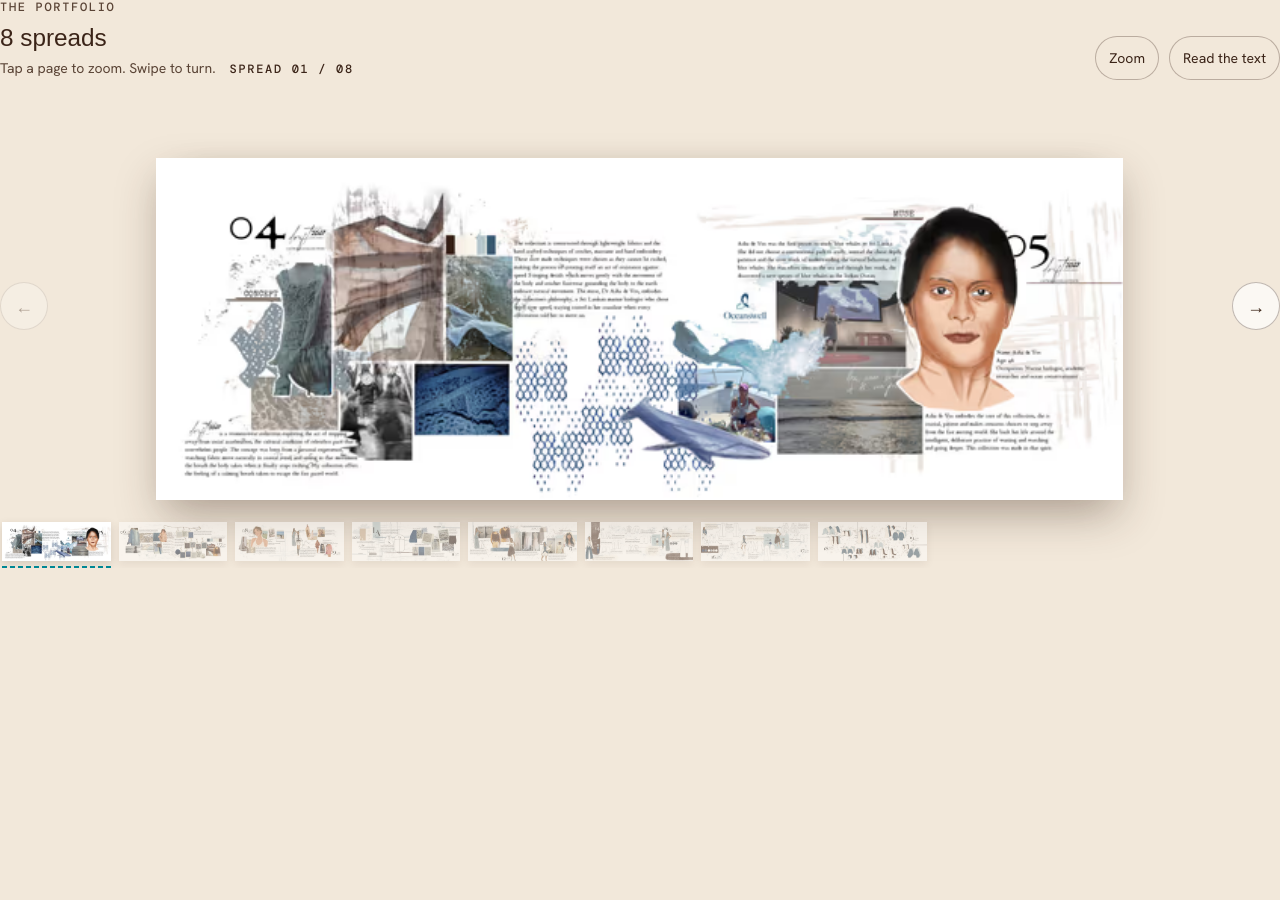
Scenario: Read the text: enabled only on a page with text, opens a drawer with it
Click the button "Read the text" at (1224, 58), box [1169, 36, 1279, 80]
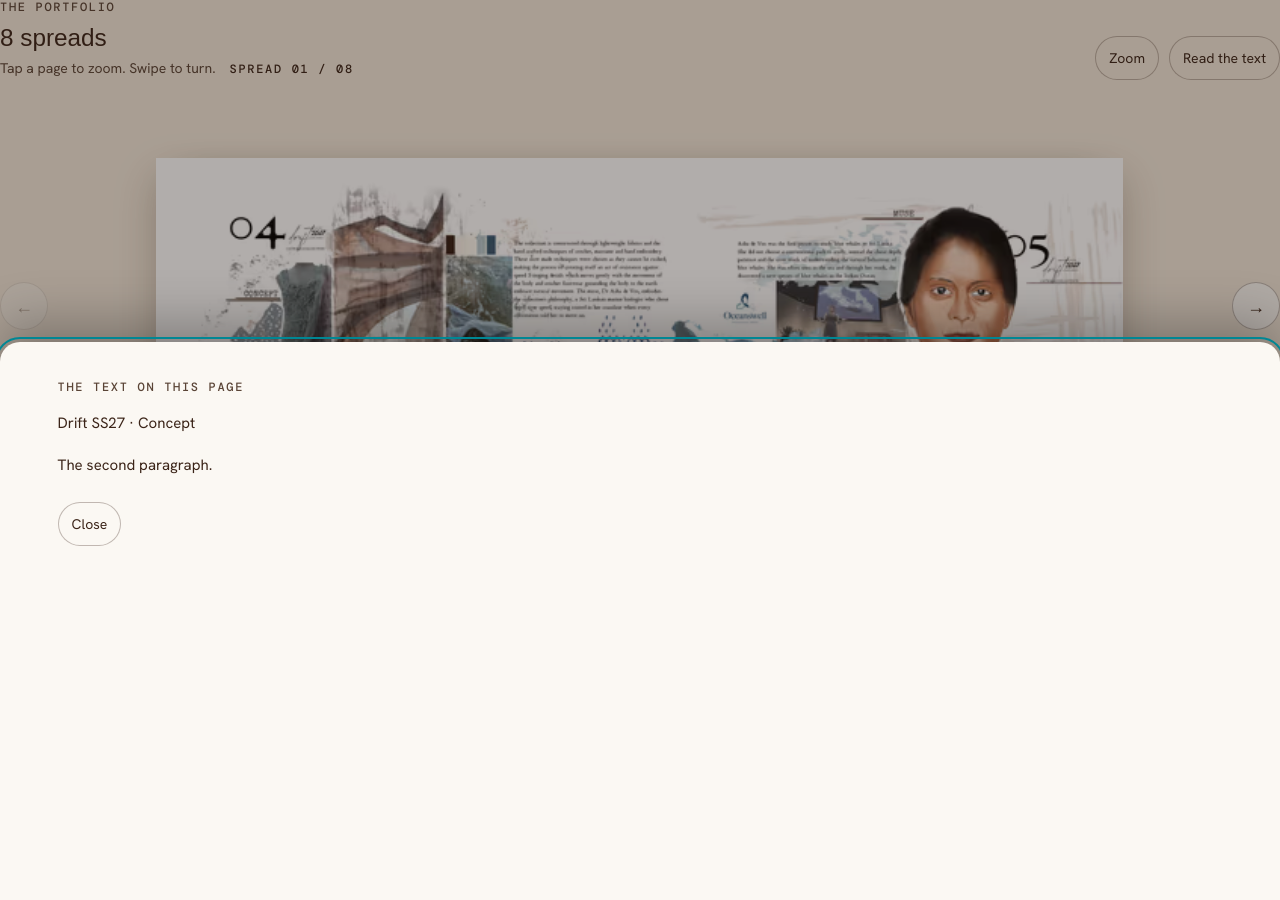
Now the text "The second paragraph." is shown, box [58, 455, 212, 475]
Click the button "Close" at (90, 524), box [58, 502, 121, 546]
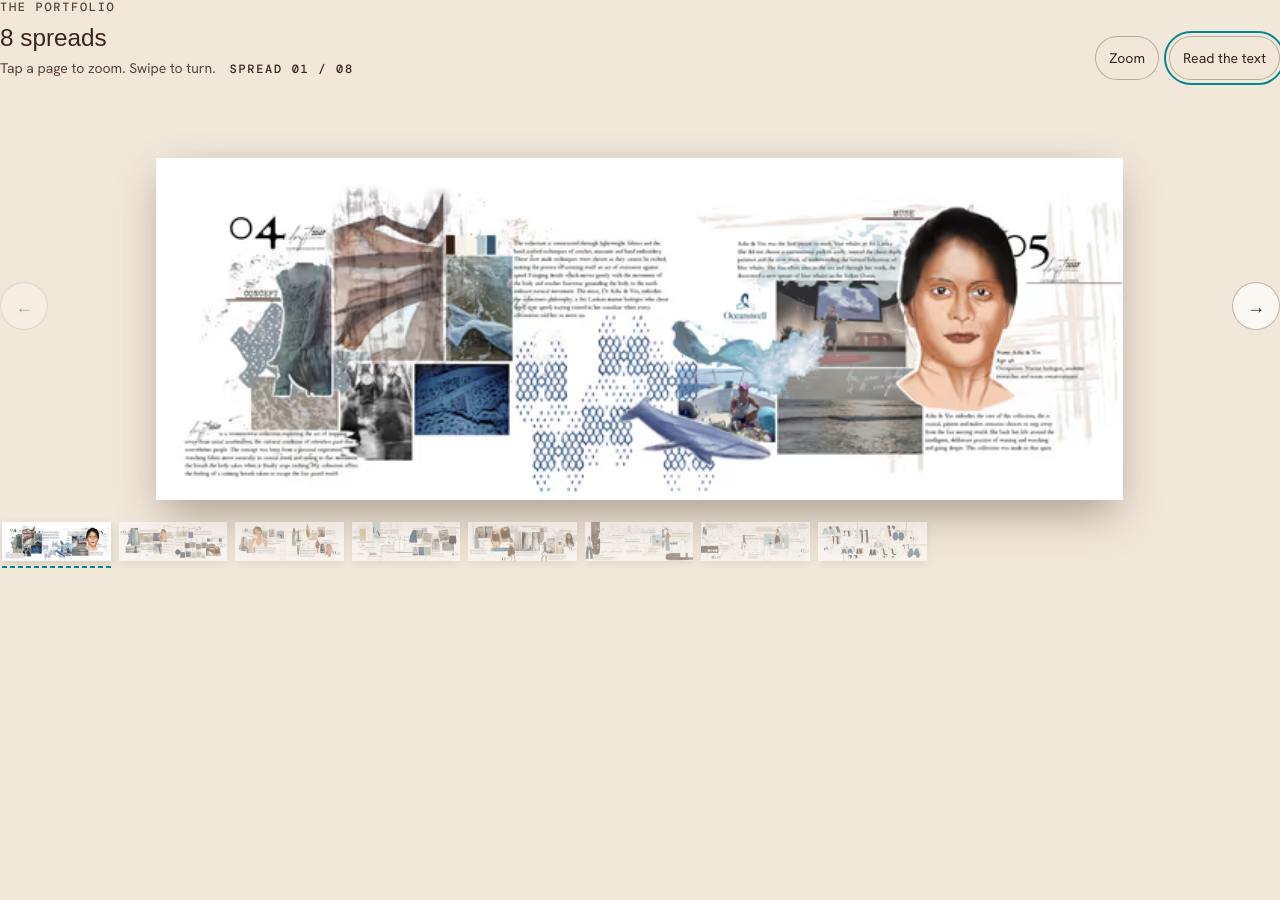
Click the button named "Next page" at (1256, 306), box [1232, 282, 1279, 330]
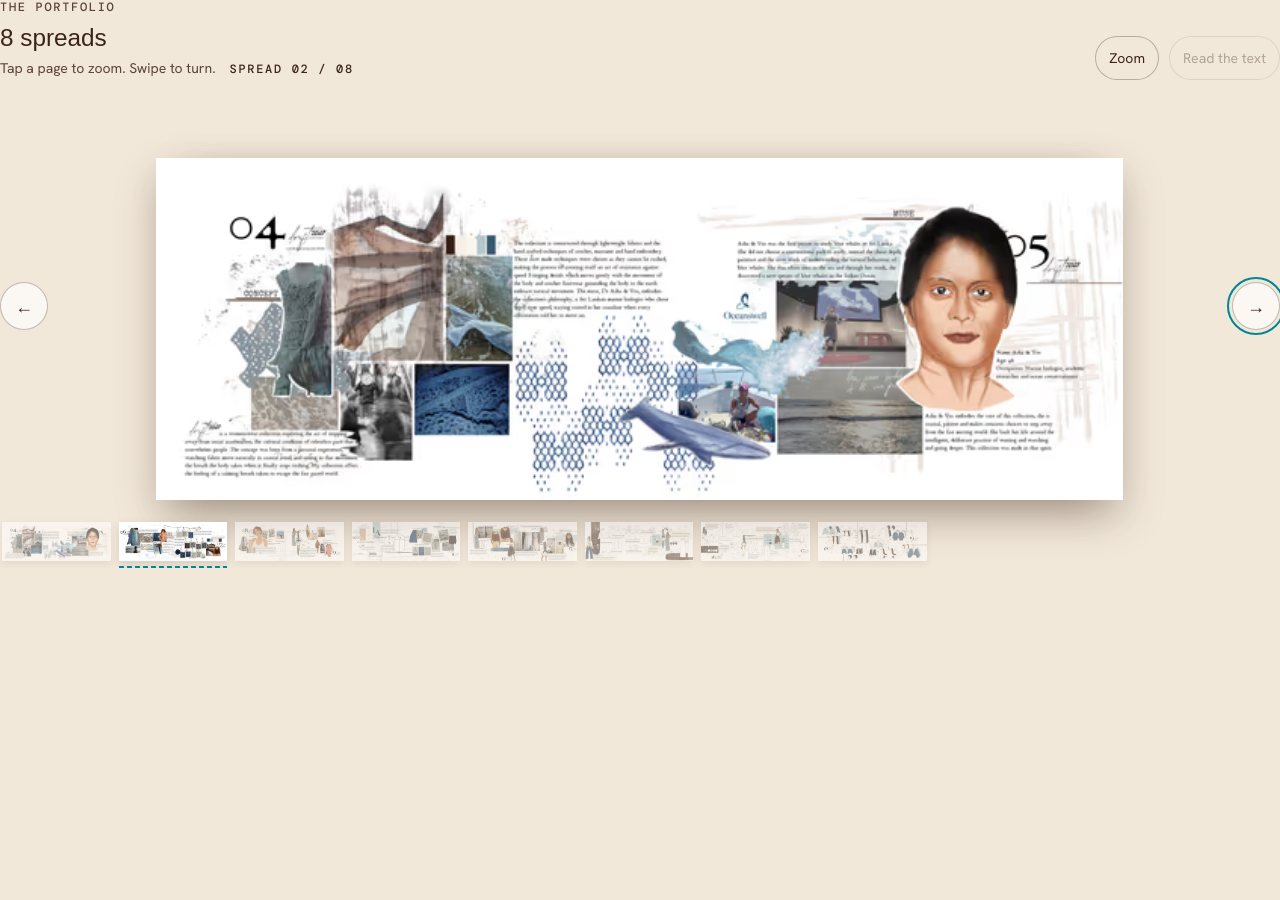
Now the button "Read the text" is disabled, box [1169, 36, 1279, 80]
